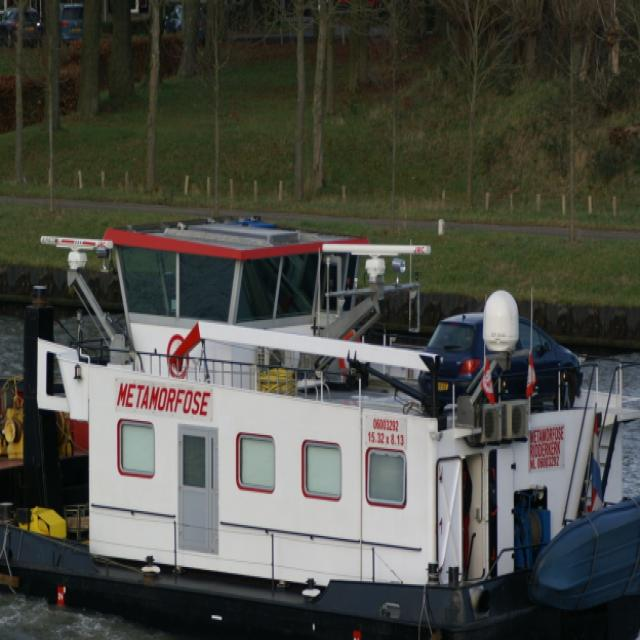tugboat: (1, 206, 640, 640)
